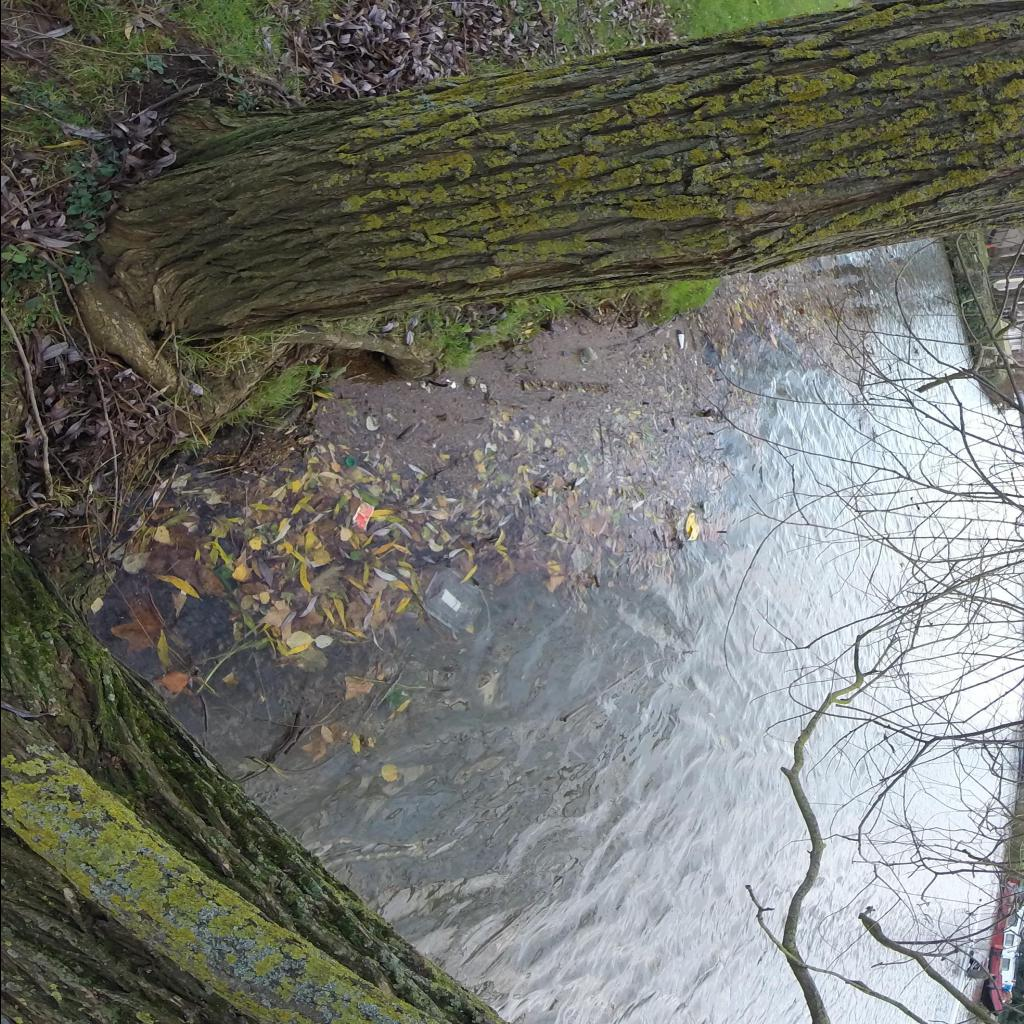Plastic bottle cap: (344, 457, 354, 467)
Unlabeled litter: (350, 503, 373, 531), (577, 348, 598, 364), (676, 329, 683, 349)
